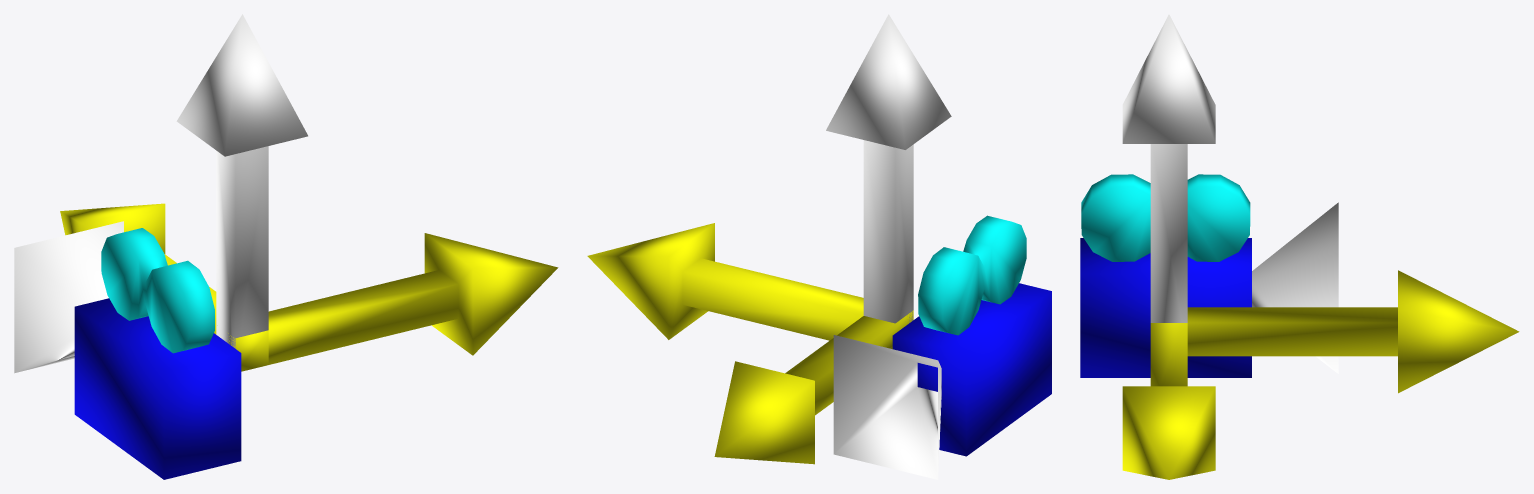
Rendered from INVISIBLE_ZCCAMTRJ_KEYFRAME.glb.
3 renders of one model, left to right at view 1: azimuth 30°, elevation 25°; view 2: azimuth 150°, elevation 25°; view 3: azimuth 270°, elevation 25°, orthographic. The views are drawn at different scales.
Parts seen in each view (by area): view 1: Mesh; view 2: Mesh; view 3: Mesh.
Part boxes in pixels (x1,y1,x2,y2): Mesh: [14, 14, 558, 479]; Mesh: [587, 14, 1051, 479]; Mesh: [1080, 14, 1519, 479].
Bounding box in the file's own units: 0.2742 × 0.2308 × 0.2381.
